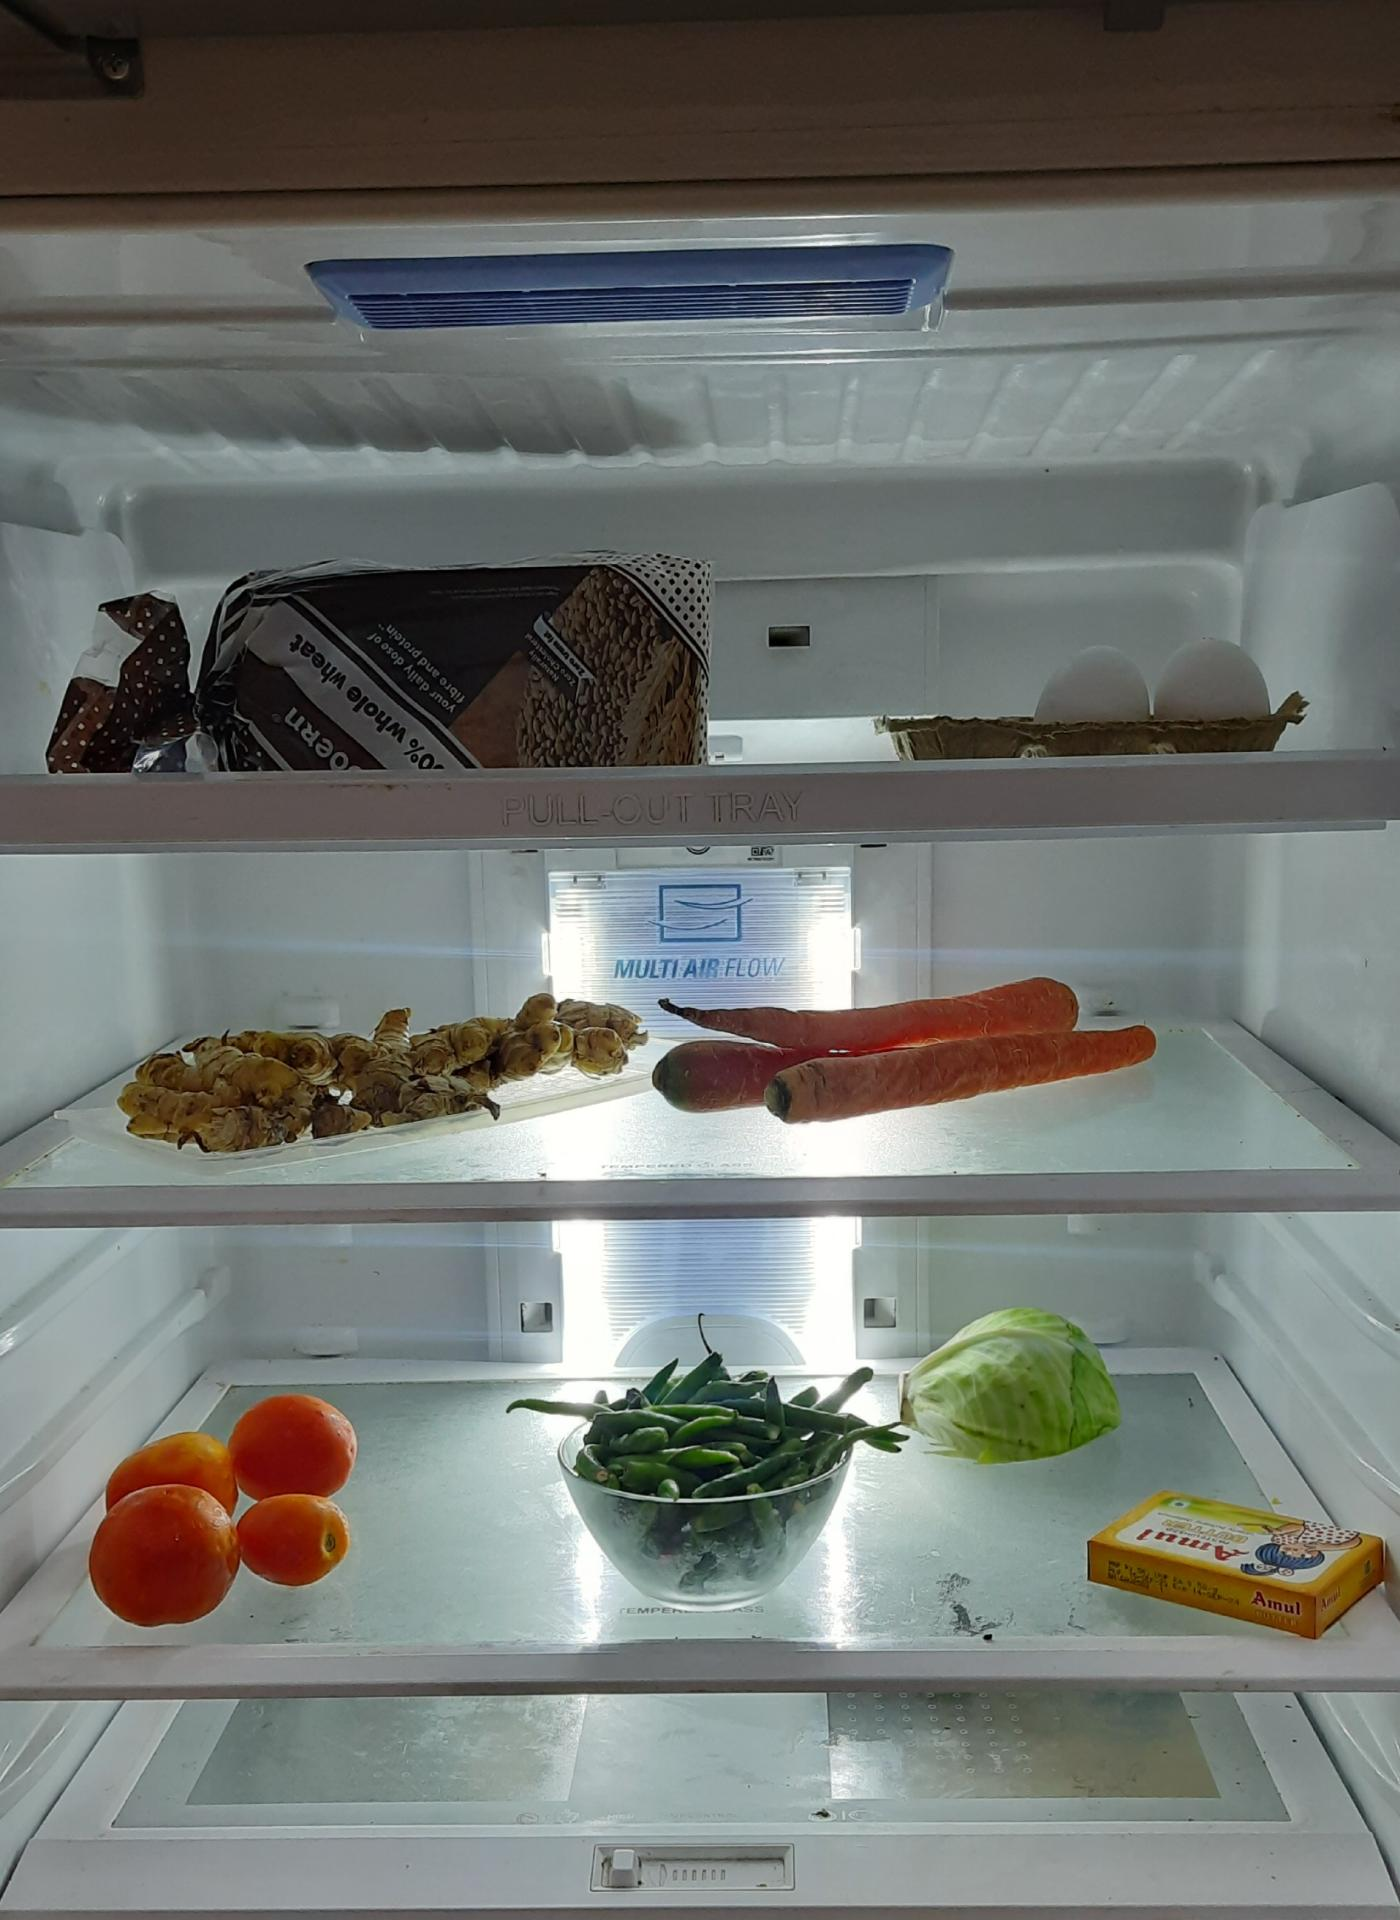bread: (46, 555, 711, 768)
butter: (1078, 1492, 1394, 1635)
cabbage: (898, 1313, 1120, 1467)
carrots: (638, 978, 1155, 1130)
chillies: (580, 1364, 878, 1592)
egg: (1035, 634, 1290, 735)
ginger: (130, 1023, 666, 1172)
tomato: (88, 1394, 358, 1626)
